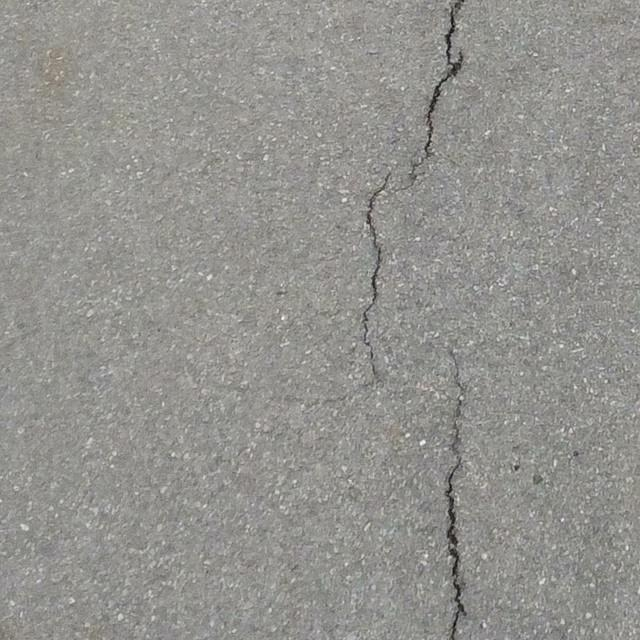LongitudinalCrack: (394, 1, 467, 191), (440, 346, 470, 640), (361, 170, 396, 386)
